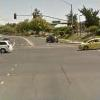Car: (76, 34, 99, 57)
